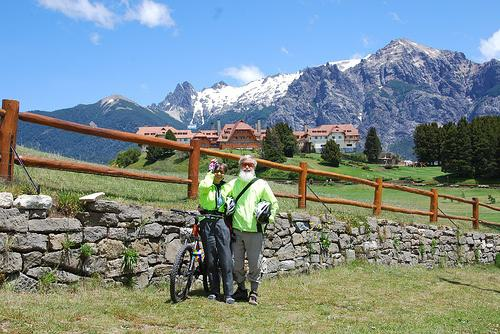car: (166, 201, 229, 308)
person: (220, 152, 282, 310), (190, 155, 242, 307)
